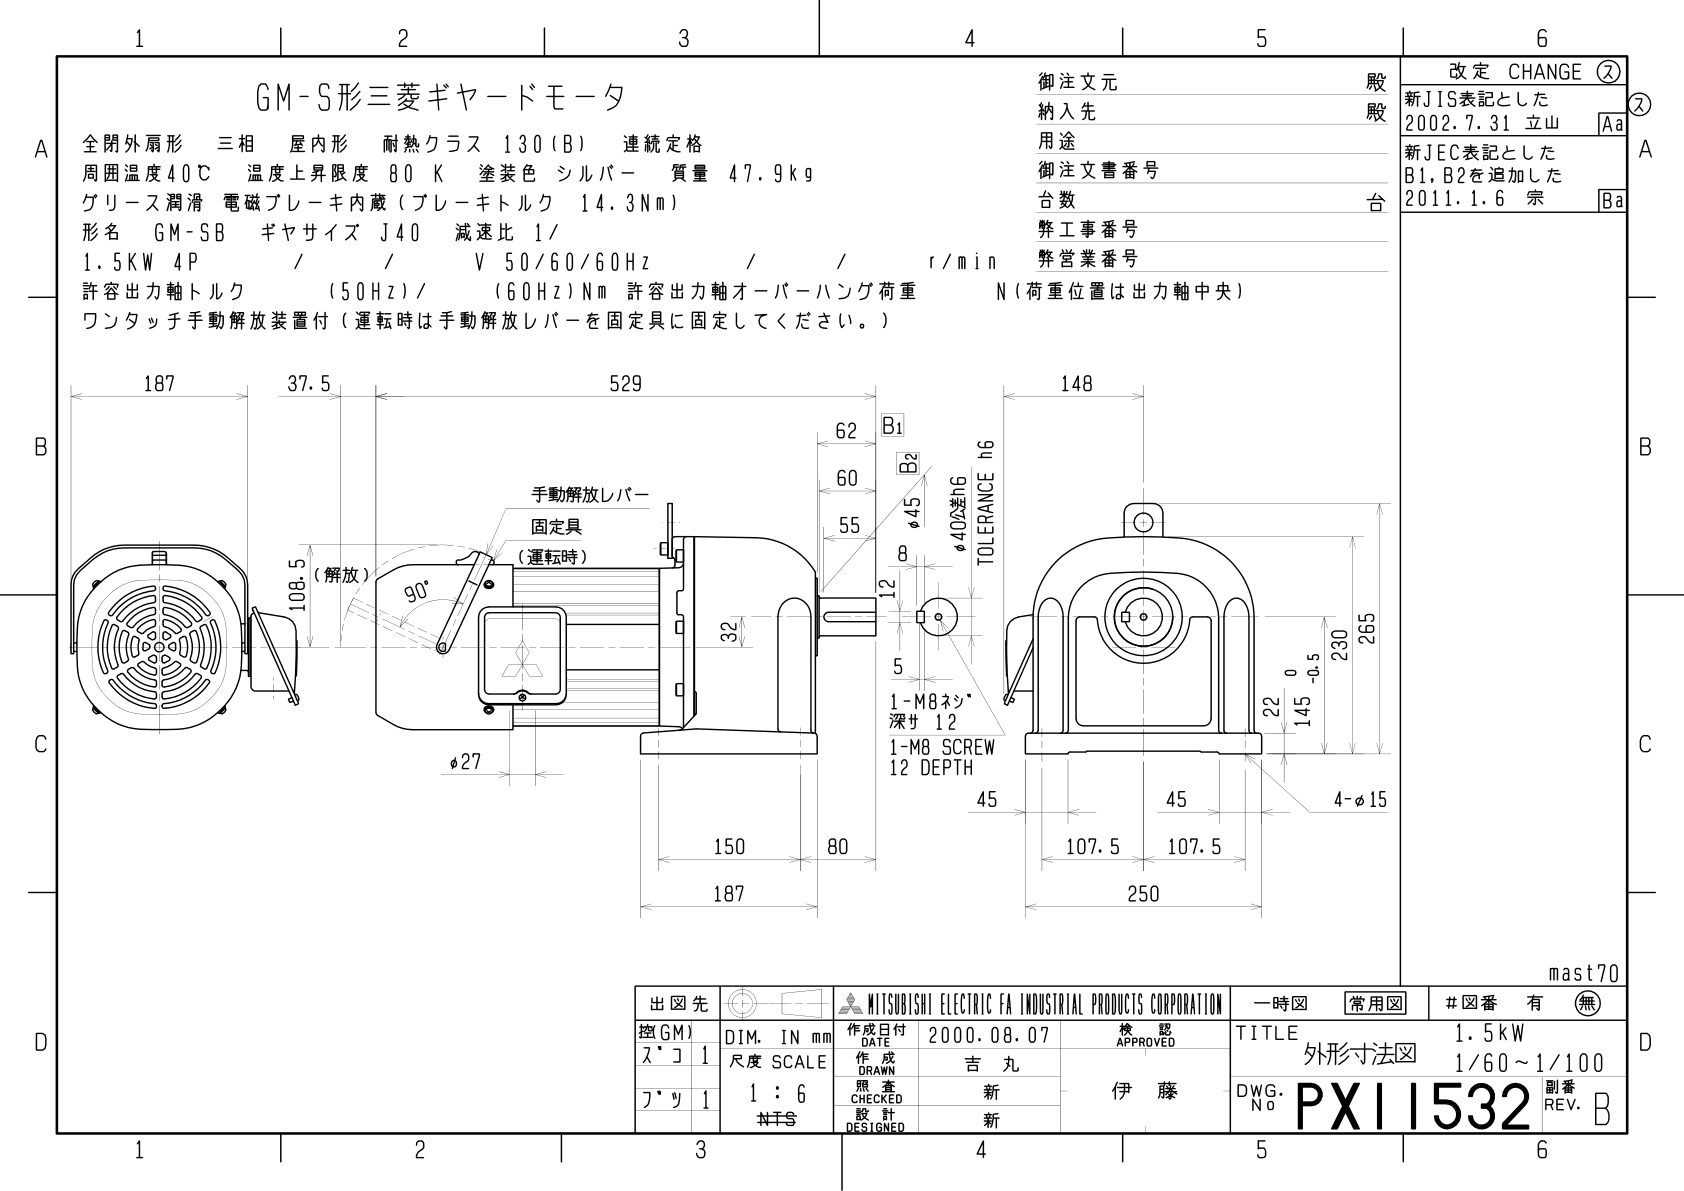GM_S_手動ブレーキ＿三相_脚: (67, 353, 1389, 962)
